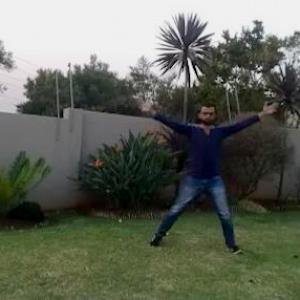takeoff: (116, 93, 258, 256)
